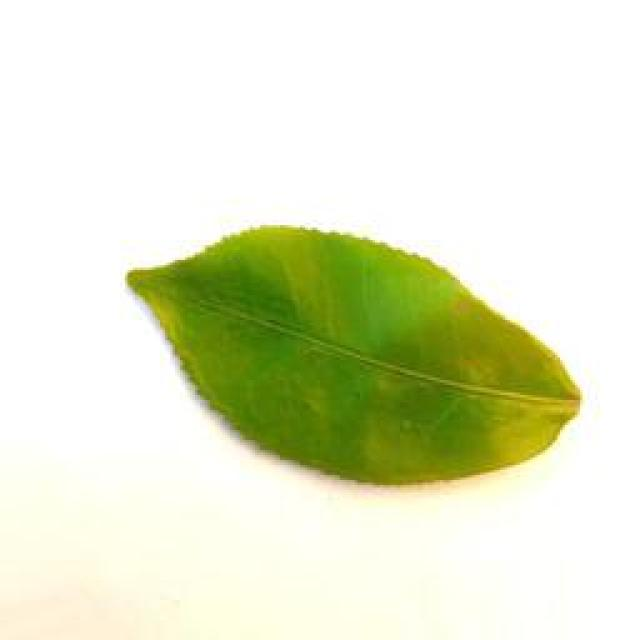Healthy: (117, 226, 572, 494)
